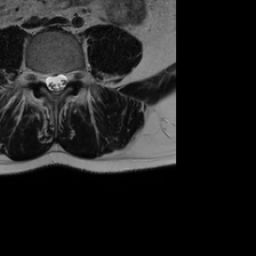CCS_normal: (51, 64, 58, 101)
LFS_normal: (66, 62, 75, 89)
LLS_normal: (58, 63, 66, 97)
RFS_normal: (36, 63, 43, 89)
RLS_normal: (43, 64, 51, 97)
